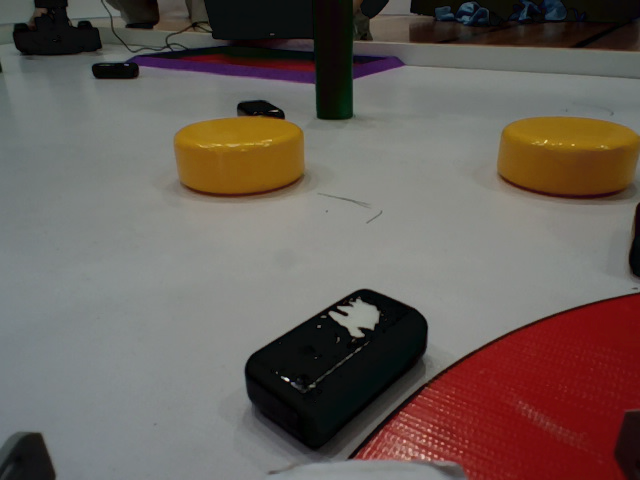black: (234, 295, 434, 446), (227, 96, 290, 124), (87, 60, 151, 86)
kuang: (121, 42, 407, 97)
yellow: (492, 110, 640, 200), (173, 118, 317, 197)
zhuzi: (301, 1, 360, 127)
